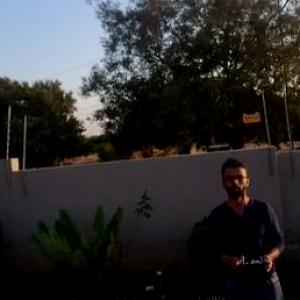follow: (204, 156, 293, 299)
